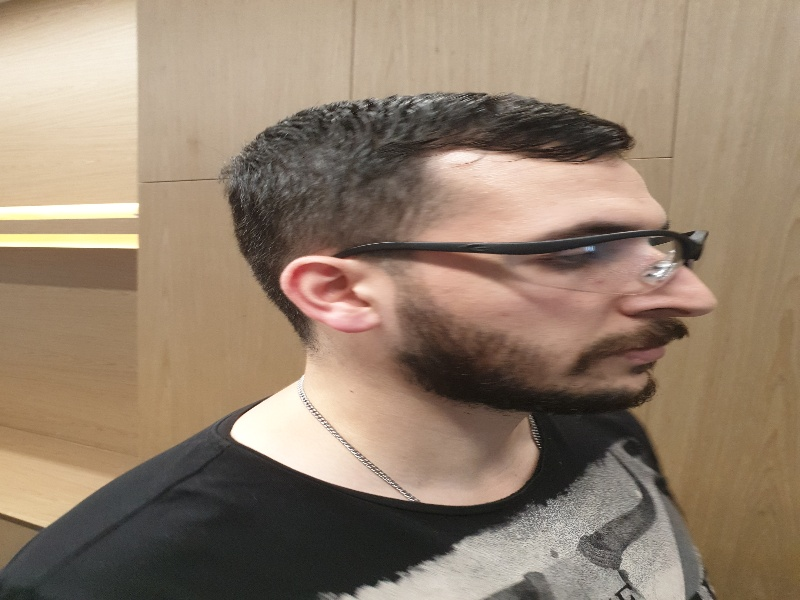Gozluk: (343, 229, 707, 290)
